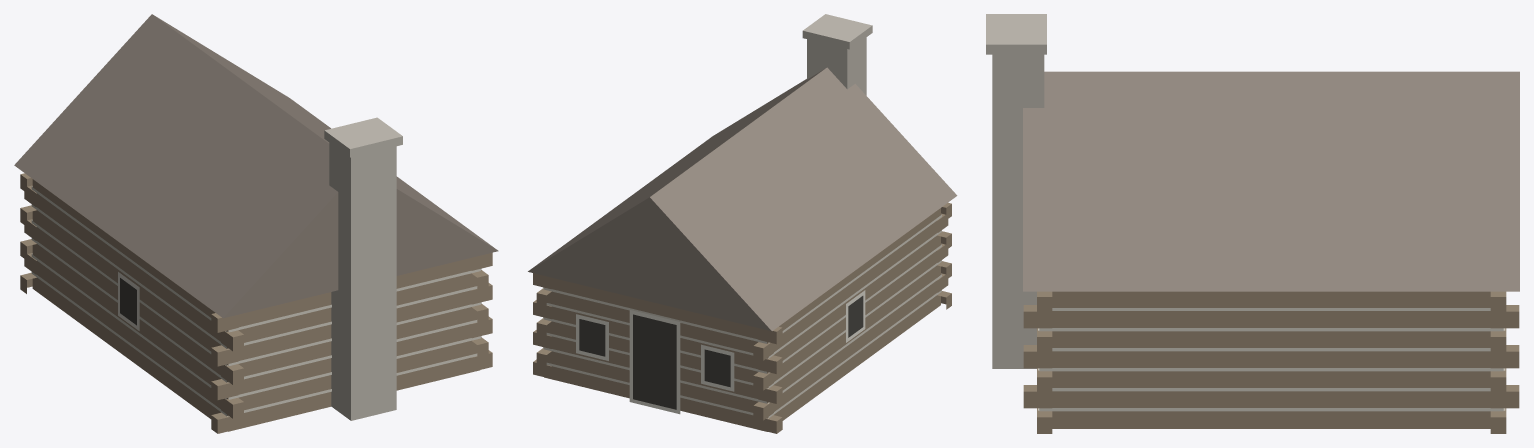
File: recon_1835_blk_lake_clark_d1_01__inferred_1835.glb
3 renders of one model, left to right at view 1: azimuth 30°, elevation 25°; view 2: azimuth 150°, elevation 25°; view 3: azimuth 270°, elevation 25°, orthographic. The views are drawn at different scales.
Parts seen in each view (by area): view 1: recon_1835_blk_lake_clark_d1_01__inferred_1835; view 2: recon_1835_blk_lake_clark_d1_01__inferred_1835; view 3: recon_1835_blk_lake_clark_d1_01__inferred_1835.
Boxes of the visible parts, <box> form: recon_1835_blk_lake_clark_d1_01__inferred_1835: <box>14,14,498,433</box>; recon_1835_blk_lake_clark_d1_01__inferred_1835: <box>528,14,957,433</box>; recon_1835_blk_lake_clark_d1_01__inferred_1835: <box>986,14,1519,433</box>.
Size of the model in its own units: 5.83 by 5.61 by 8.22.
